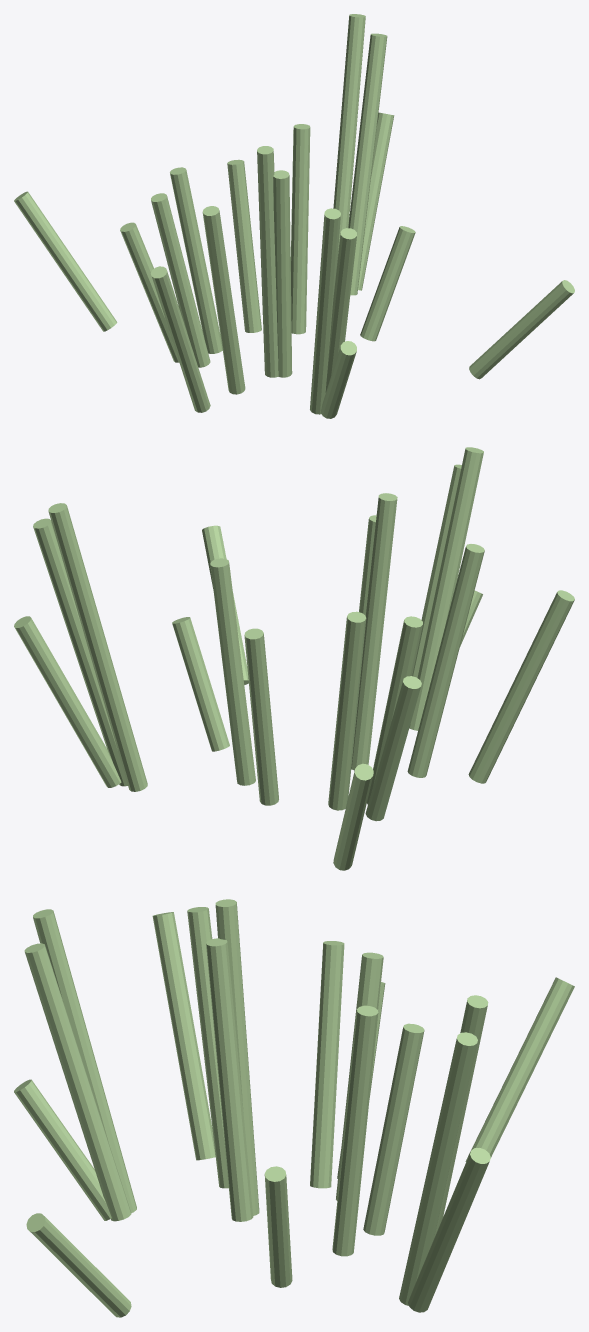
Rendered from grass_clump.glb.
3 views of the same model, one above another, from view 1: azimuth 30°, elevation 25°; view 2: azimuth 150°, elevation 25°; view 3: azimuth 270°, elevation 25° (orthographic). The views are drawn at different scales.
Parts seen in each view (by area): view 1: grass_clump_013, grass_clump_009, grass_clump_014, grass_clump_001, grass_clump_010, grass_clump_017, grass_clump_007, grass_clump_006, grass_clump_002, grass_clump_011, grass_clump_005, grass_clump_015 (+6 smaller); view 2: grass_clump_009, grass_clump_001, grass_clump_007, grass_clump_010, grass_clump_014, grass_clump_015, grass_clump_017, grass_clump_013, grass_clump_016, grass_clump_002, grass_clump_000, grass_clump_003 (+5 smaller); view 3: grass_clump_012, grass_clump_006, grass_clump_013, grass_clump_014, grass_clump_015, grass_clump_011, grass_clump_002, grass_clump_007, grass_clump_005, grass_clump_010, grass_clump_016, grass_clump_001 (+5 smaller).
Part boxes in pixels (x1=…): grass_clump_013: x1=348, y1=33, x2=387, y2=295; grass_clump_009: x1=333, y1=14, x2=365, y2=253; grass_clump_014: x1=290, y1=124, x2=310, y2=334; grass_clump_001: x1=257, y1=146, x2=278, y2=377; grass_clump_010: x1=202, y1=206, x2=245, y2=394; grass_clump_017: x1=170, y1=167, x2=222, y2=353; grass_clump_007: x1=310, y1=208, x2=340, y2=414; grass_clump_006: x1=273, y1=170, x2=292, y2=377; grass_clump_002: x1=227, y1=159, x2=261, y2=332; grass_clump_011: x1=151, y1=193, x2=210, y2=367; grass_clump_005: x1=14, y1=191, x2=117, y2=331; grass_clump_015: x1=150, y1=266, x2=210, y2=412; grass_clump_009: x1=48, y1=503, x2=147, y2=791; grass_clump_001: x1=351, y1=493, x2=397, y2=770; grass_clump_007: x1=409, y1=447, x2=483, y2=730; grass_clump_010: x1=407, y1=544, x2=484, y2=777; grass_clump_014: x1=210, y1=558, x2=255, y2=785; grass_clump_015: x1=468, y1=590, x2=574, y2=783; grass_clump_017: x1=328, y1=611, x2=366, y2=810; grass_clump_013: x1=33, y1=518, x2=127, y2=786; grass_clump_016: x1=14, y1=616, x2=121, y2=787; grass_clump_002: x1=244, y1=628, x2=278, y2=805; grass_clump_000: x1=365, y1=676, x2=421, y2=821; grass_clump_003: x1=172, y1=617, x2=229, y2=751; grass_clump_012: x1=24, y1=943, x2=131, y2=1221; grass_clump_006: x1=206, y1=938, x2=253, y2=1221; grass_clump_013: x1=399, y1=1032, x2=477, y2=1305; grass_clump_014: x1=332, y1=1005, x2=378, y2=1256; grass_clump_015: x1=152, y1=912, x2=215, y2=1160; grass_clump_011: x1=310, y1=941, x2=344, y2=1188; grass_clump_002: x1=363, y1=1023, x2=424, y2=1235; grass_clump_007: x1=33, y1=909, x2=136, y2=1212; grass_clump_005: x1=465, y1=977, x2=574, y2=1161; grass_clump_010: x1=187, y1=907, x2=228, y2=1188; grass_clump_016: x1=408, y1=1148, x2=490, y2=1312; grass_clump_001: x1=215, y1=899, x2=259, y2=1215.
Bounding box in the file's own units: 0.9104 × 0.599 × 0.9265.
